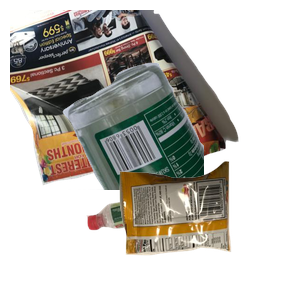glass: (60, 60, 300, 240)
paper: (10, 10, 241, 188)
plastic: (84, 191, 242, 300)
trash: (117, 159, 300, 300)
